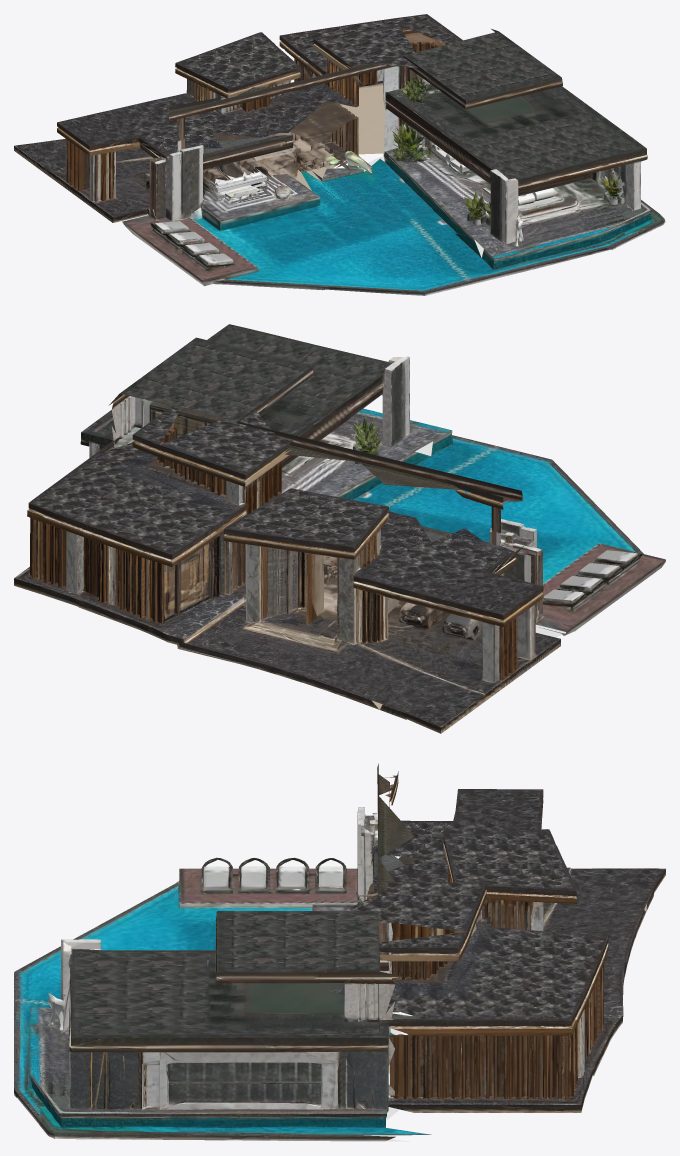
The model's file is celine-photo.glb.
The picture shows the model from 3 angles, top to bottom: view 1: azimuth 30°, elevation 25°; view 2: azimuth 150°, elevation 25°; view 3: azimuth 270°, elevation 25°; orthographic projection. The views are drawn at different scales.
Visible parts, largest first — view 1: Mesh_0; view 2: Mesh_0; view 3: Mesh_0.
Part boxes in pixels (x1,y1,x2,y2): Mesh_0: [14, 14, 665, 295]; Mesh_0: [14, 324, 665, 733]; Mesh_0: [14, 763, 665, 1141].
Bounding box in the file's own units: 32.78 × 8.02 × 33.58.
2 materials, 2 textured.
